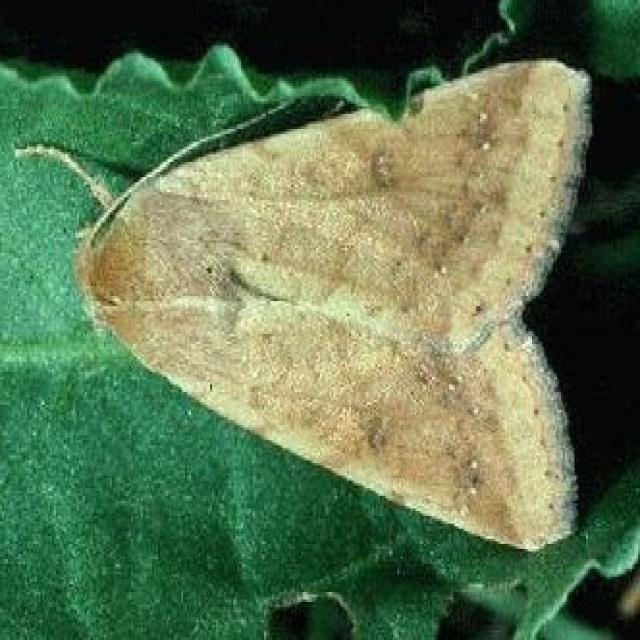army worm: (59, 47, 595, 568)
